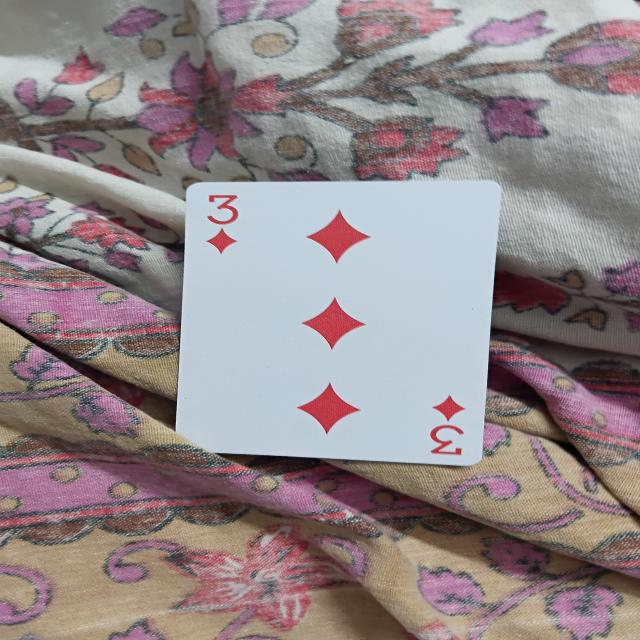3D: (176, 182, 502, 467)
